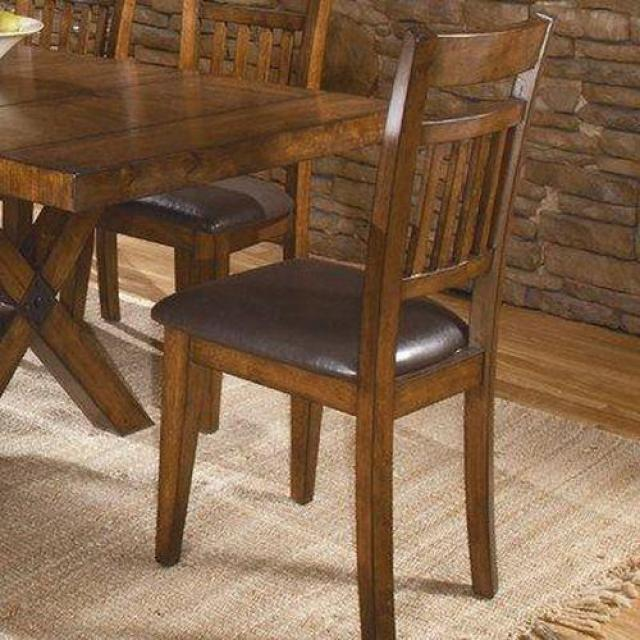chair: (152, 20, 553, 640)
